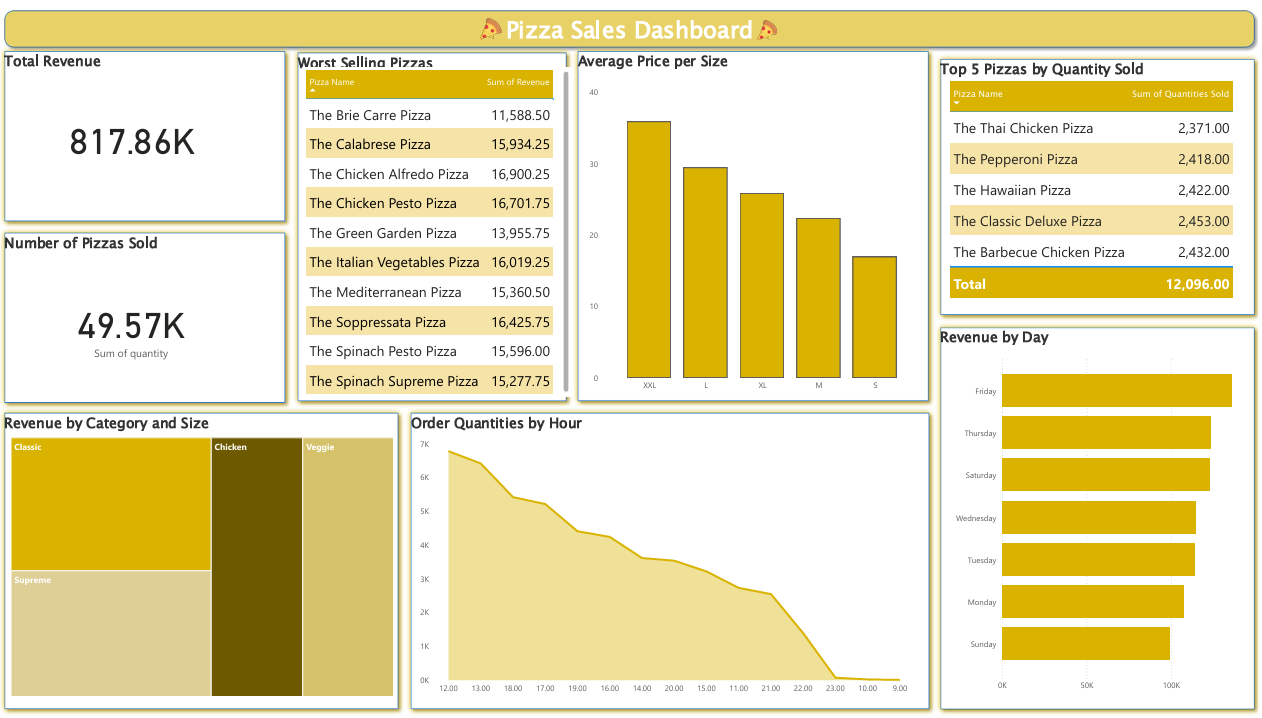

The dashboard page shown, as its layout file describes it:
{"tool":"powerbi","page":{"name":"Dashboard","canvas":[1920,1080],"ordinal":0},"visuals":[{"type":"shape","box":[0,0,1920.1,74.2],"z":0},{"type":"image","box":[727.5,14.5,41.6,45.2],"z":1000},{"type":"image","box":[1149.1,16.3,39.8,45.2],"z":2000},{"type":"shape","title":"A","box":[872.3,61.5,551.9,550.1],"z":3000},{"type":"columnChart","fields":{"Y":["Sum(public avg_price_per_size.avg_order_value)"],"Category":["public avg_price_per_size.pizza_size"]},"box":[894,119.4,513.9,477.8],"z":4000},{"type":"shape","title":"A","box":[1424.2,74.2,495.8,407.2],"z":5000},{"type":"tableEx","fields":{"Values":["public pizza_by_quantities_sold.pizza_name","Sum(public pizza_by_quantities_sold.quantities_sold)"]},"box":[1442.3,112.2,459.7,354.7],"z":6000},{"type":"shape","title":"A","box":[445.2,63.3,427.1,548.3],"z":7000},{"type":"tableEx","fields":{"Values":["public worst_pizzas.pizza_name","Sum(public worst_pizzas.revenue)"]},"box":[461.5,95.9,410.8,501.3],"z":8000},{"type":"shape","title":"A","box":[617.1,611.7,807.1,468.7],"z":9000},{"type":"lineChart","fields":{"Y":["Sum(public hourly_trend.quantities_sold)"],"Category":["public hourly_trend.order_hour"]},"box":[635.2,653.3,760.1,403.6],"z":10000},{"type":"shape","title":"A","box":[1424.2,481.4,495.8,599],"z":11000},{"type":"barChart","fields":{"Category":["public peak_days.order_day"],"Y":["Sum(public peak_days.price)"]},"box":[1445.9,524.8,459.7,530.2],"z":12000},{"type":"shape","title":"A","box":[0,611.7,617.1,468.7],"z":13000},{"type":"treemap","fields":{"Group":["public pizza_revenue_bycategory.pizza_category","public pizza_revenue_bycategory.pizza_size"],"Values":["Sum(public pizza_revenue_bycategory.revenue)"]},"box":[14.5,653.3,591.8,403.6],"z":14000},{"type":"shape","title":"A","box":[0,61.5,445.2,276.9],"z":15000},{"type":"shape","title":"A","box":[0,338.4,445.2,276.9],"z":16000},{"type":"card","fields":{"Values":["Sum(public pizza_sales.total_price)"]},"box":[14.5,103.2,378.2,193.6],"z":17000},{"type":"card","fields":{"Values":["Sum(public pizza_sales.quantity)"]},"box":[29,385.5,347.5,211.7],"z":18000}]}

Visuals, with their boxes in screenshot pixels (x1, y1, x2, y2), scaled from the page's 1920x1080 canvas onto the 1262x718 screenshot:
shape: Rect(0, 0, 1261, 49)
image: Rect(478, 10, 506, 40)
image: Rect(755, 11, 781, 41)
"A" shape: Rect(573, 41, 936, 407)
columnChart - Sum(public avg_price_per_size.avg_order_value) x public avg_price_per_size.pizza_size: Rect(588, 79, 925, 397)
"A" shape: Rect(936, 49, 1261, 320)
tableEx - public pizza_by_quantities_sold.pizza_name x Sum(public pizza_by_quantities_sold.quantities_sold): Rect(948, 75, 1250, 310)
"A" shape: Rect(293, 42, 573, 407)
tableEx - public worst_pizzas.pizza_name x Sum(public worst_pizzas.revenue): Rect(303, 64, 573, 397)
"A" shape: Rect(406, 407, 936, 717)
lineChart - Sum(public hourly_trend.quantities_sold) x public hourly_trend.order_hour: Rect(418, 434, 917, 703)
"A" shape: Rect(936, 320, 1261, 717)
barChart - public peak_days.order_day x Sum(public peak_days.price): Rect(950, 349, 1253, 701)
"A" shape: Rect(0, 407, 406, 717)
treemap - public pizza_revenue_bycategory.pizza_category x public pizza_revenue_bycategory.pizza_size: Rect(10, 434, 399, 703)
"A" shape: Rect(0, 41, 293, 225)
"A" shape: Rect(0, 225, 293, 409)
card - Sum(public pizza_sales.total_price): Rect(10, 69, 258, 197)
card - Sum(public pizza_sales.quantity): Rect(19, 256, 247, 397)
